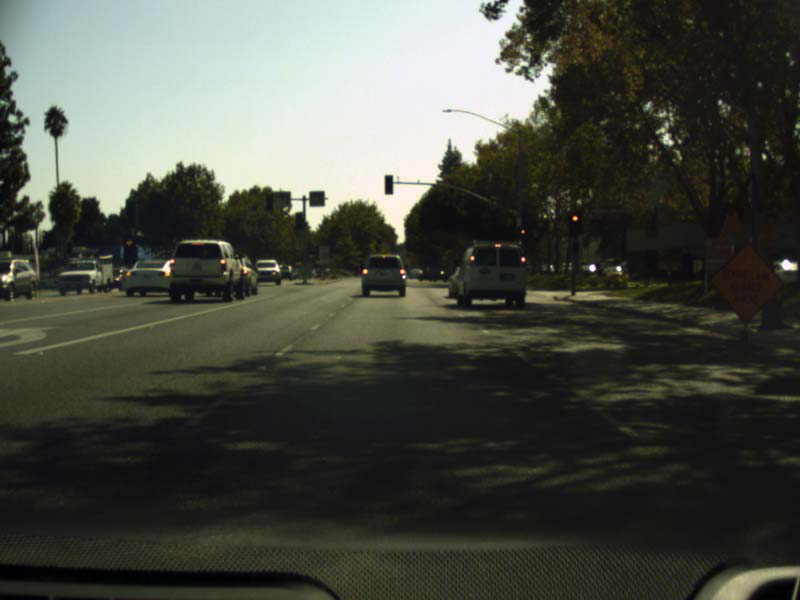Red: (570, 211, 581, 235), (124, 237, 135, 259), (518, 227, 527, 246)
